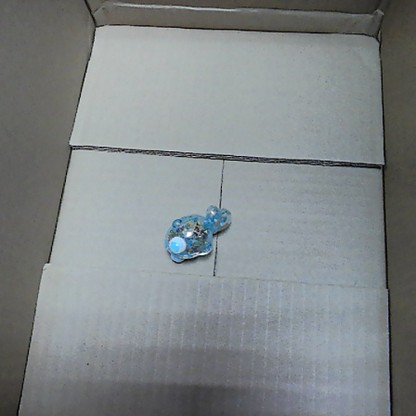bluefish: (165, 202, 232, 264)
